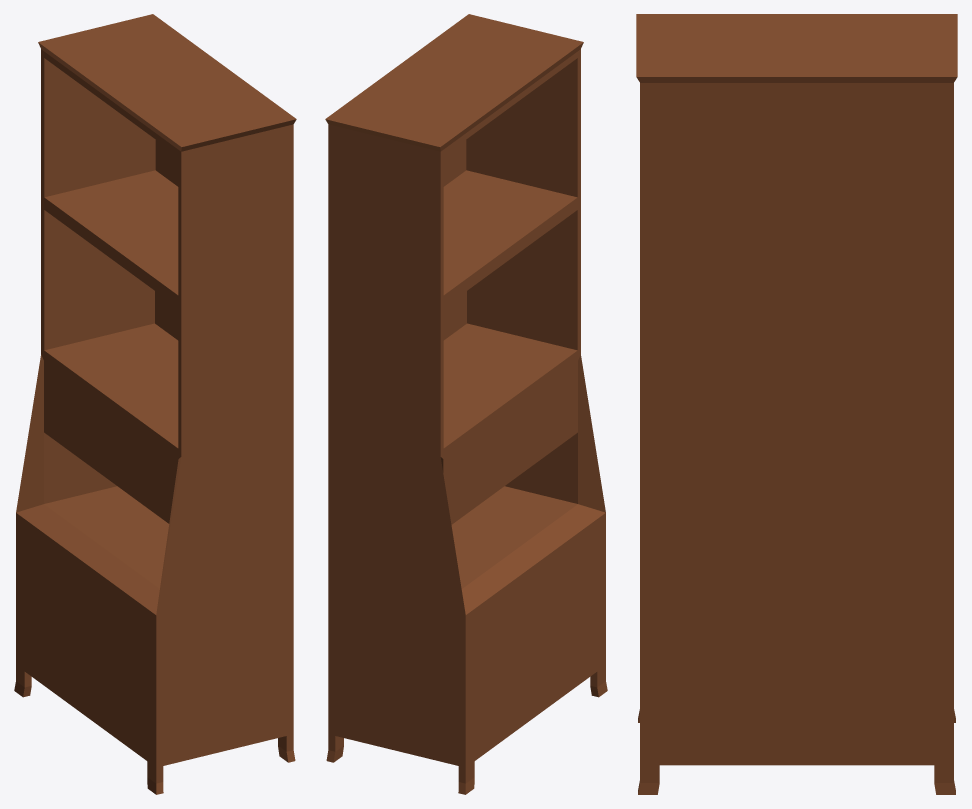
File: bookcasewood01.obj
The picture shows the model from 3 angles, left to right: view 1: azimuth 30°, elevation 25°; view 2: azimuth 150°, elevation 25°; view 3: azimuth 270°, elevation 25°; orthographic projection. The views are drawn at different scales.
Visible parts, largest first — view 1: Cube.001; view 2: Cube.001; view 3: Cube.001.
Part boxes in pixels (x1,y1,x2,y2): Cube.001: (14, 14, 296, 794); Cube.001: (325, 14, 607, 794); Cube.001: (636, 14, 957, 794).
Size of the model in its own units: 0.5024 by 2.21 by 0.8954.
